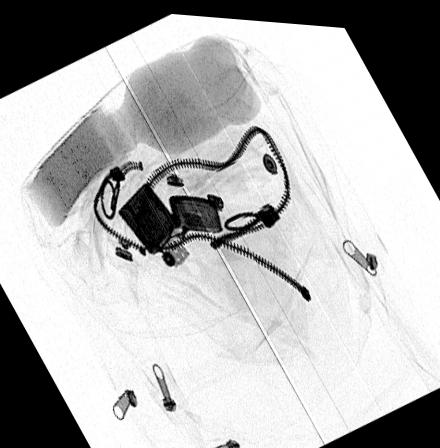Lighter: (115, 177, 224, 265)
